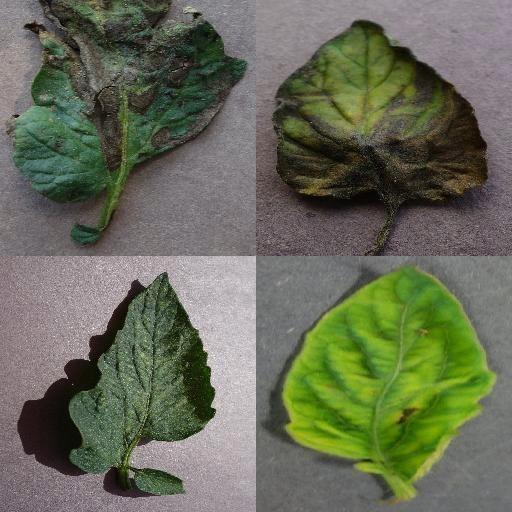Early Blight: (11, 0, 246, 208)
Late Blight: (273, 19, 489, 203)
Spider Mites: (69, 272, 217, 474)
Yellow Leaf Curl Virus: (279, 266, 497, 482)
